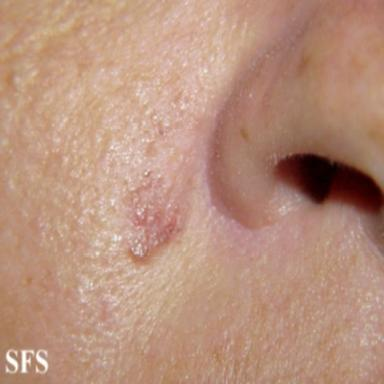basal-cell-carcinoma: (130, 186, 181, 258)
